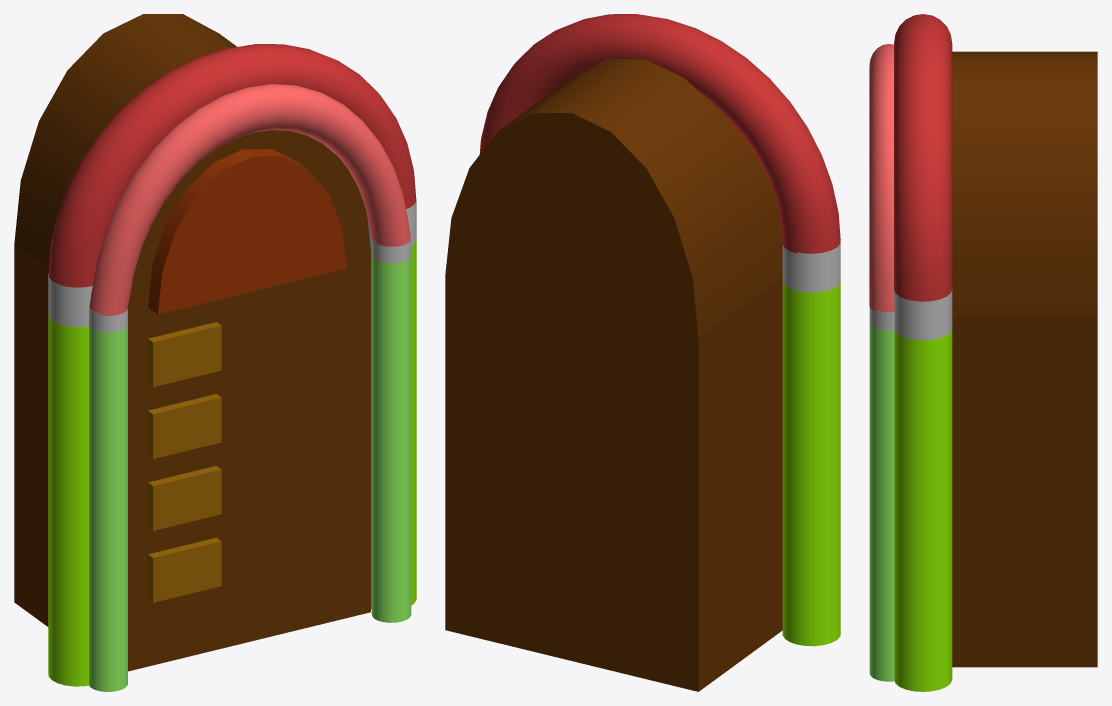
File: jukebox.obj
The picture shows the model from 3 angles, left to right: view 1: azimuth 30°, elevation 25°; view 2: azimuth 150°, elevation 25°; view 3: azimuth 270°, elevation 25°; orthographic projection. The views are drawn at different scales.
Parts seen in each view (by area): view 1: body, up, pTorus1, bocina, arcoL, tube1, tubeL2, tubeL1, pCube1, pCube3, pCube4, pCube2 (+5 smaller); view 2: body, up, pTorus1, tube1, tubeU2, tubeU1; view 3: body, up, tube2, pTorus1, tubeL2, arcoL, tubeU4, tubeU3, tubeLU2.
Boxes of the visible parts, box(x1,y1,x2,y2) form: body: box(14, 243, 370, 671); up: box(14, 14, 370, 311); pTorus1: box(48, 44, 416, 287); bocina: box(148, 149, 346, 314); arcoL: box(89, 84, 410, 315); tube1: box(48, 315, 88, 686); tubeL2: box(371, 255, 411, 622); tubeL1: box(89, 325, 127, 691); pCube1: box(148, 322, 221, 386); pCube3: box(148, 466, 221, 530); pCube4: box(148, 537, 221, 602); pCube2: box(148, 394, 221, 458); body: box(445, 276, 782, 691); up: box(445, 59, 782, 338); pTorus1: box(479, 14, 840, 253); tube1: box(782, 282, 840, 646); tubeU2: box(782, 242, 840, 274); tubeU1: box(782, 264, 840, 292); body: box(952, 316, 1097, 667); up: box(952, 51, 1097, 315); tube2: box(894, 328, 952, 691); pTorus1: box(894, 14, 952, 301); tubeL2: box(869, 322, 894, 681); arcoL: box(869, 44, 894, 312); tubeU4: box(894, 289, 952, 322); tubeU3: box(894, 311, 952, 340); tubeLU2: box(869, 307, 894, 330).
Size of the model in its own units: 2.1 by 3.26 by 1.18.
